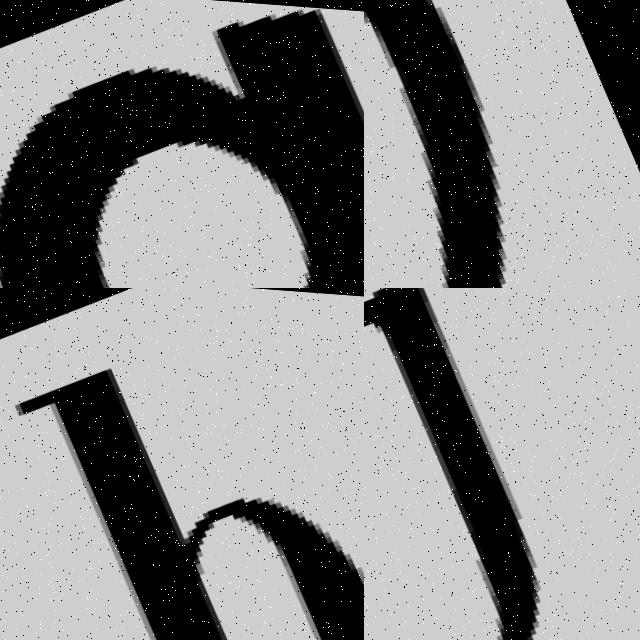0: (364, 0, 635, 288)
B: (14, 364, 364, 640)
G: (0, 0, 364, 288)
J: (364, 288, 606, 640)
